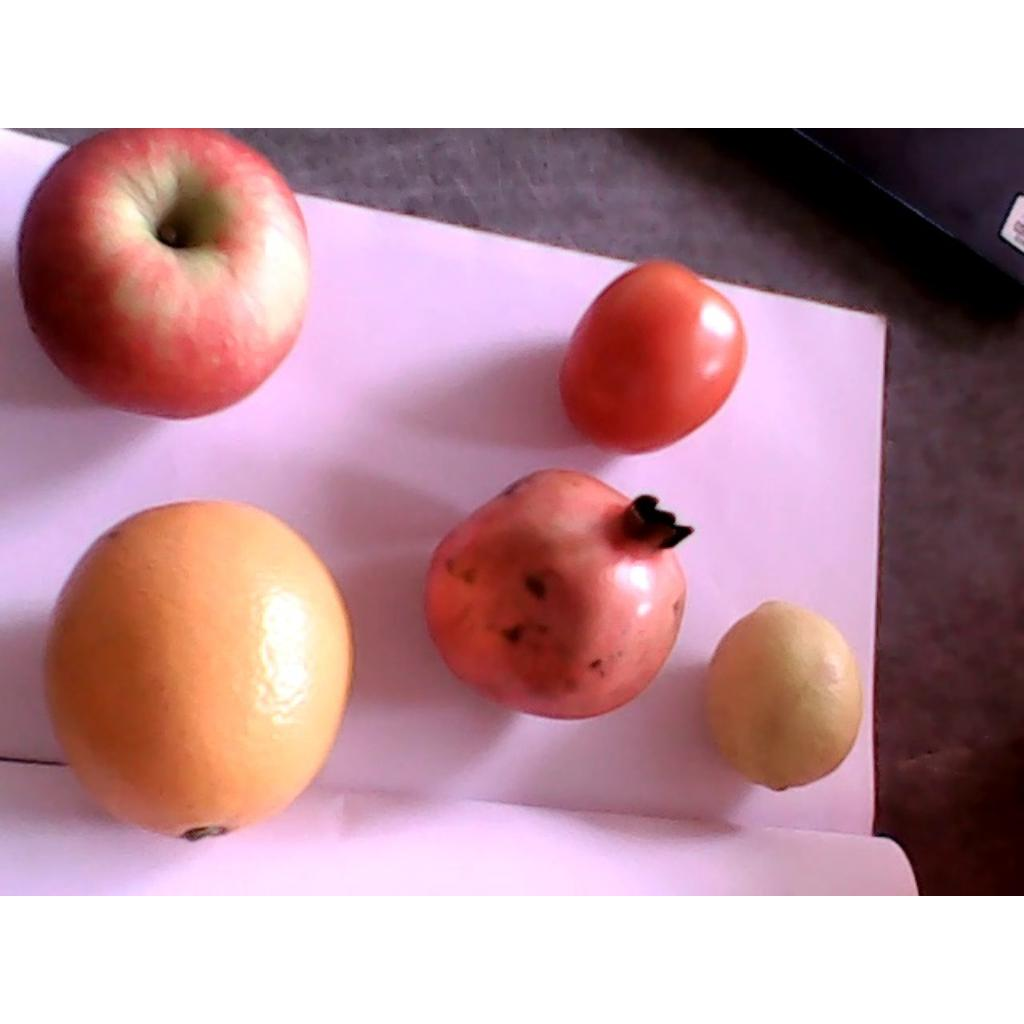apple: (19, 128, 310, 420)
lemon: (699, 600, 862, 792)
orange: (43, 499, 354, 840)
pomegranate: (424, 465, 694, 720)
tomato: (559, 258, 748, 455)
